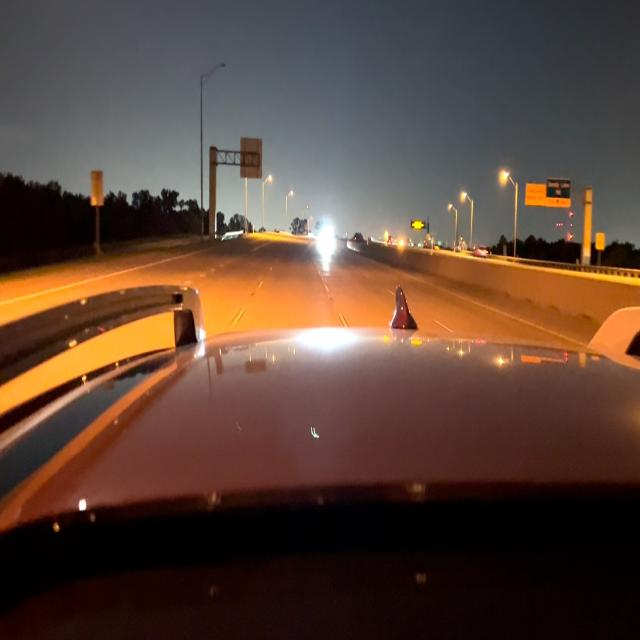back-of-sign: (240, 138, 263, 179), (92, 169, 102, 205)
